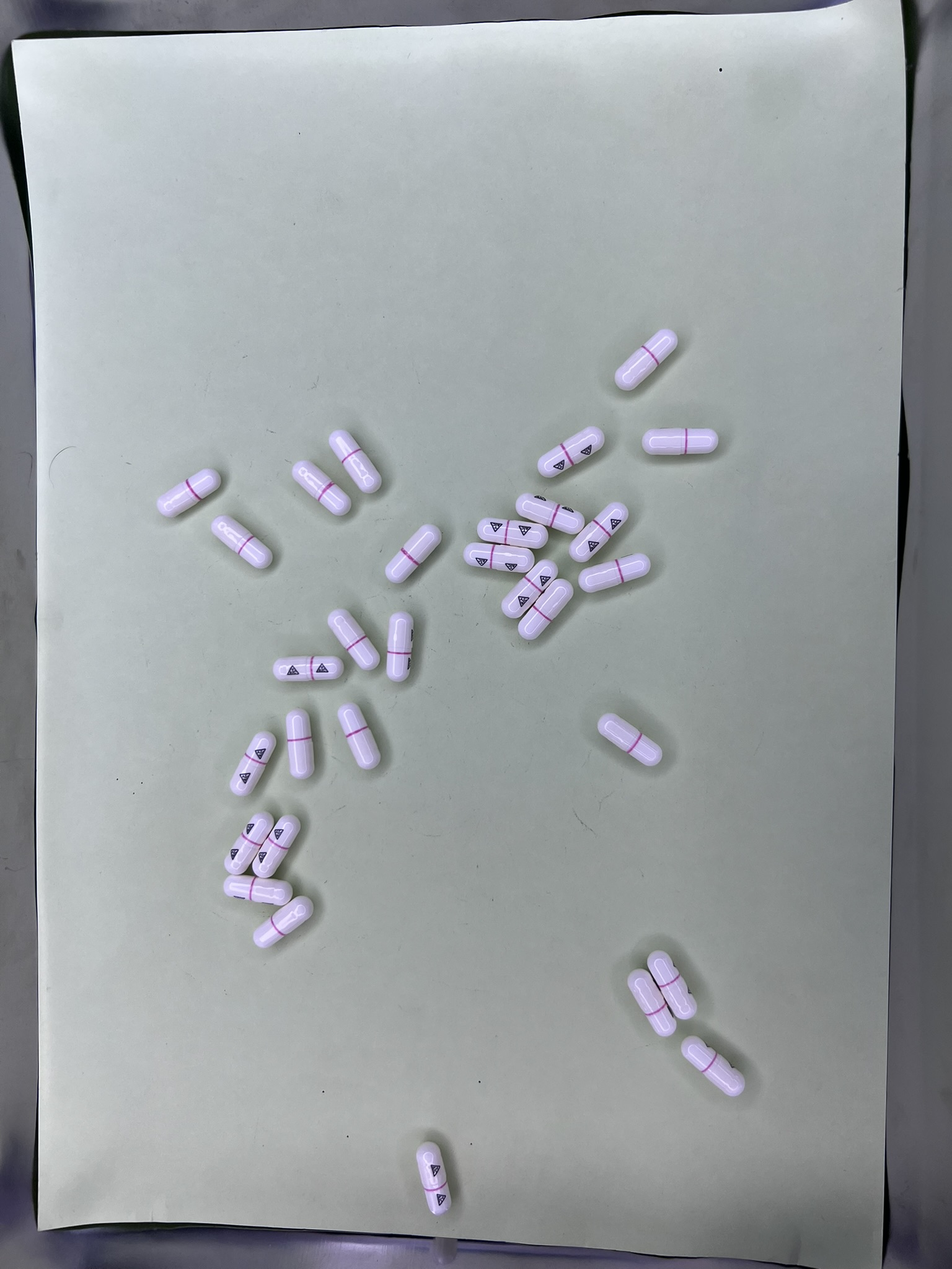Capsule: (614, 328, 679, 392), (682, 1035, 744, 1098), (516, 577, 576, 641), (568, 502, 630, 562), (327, 608, 381, 675), (600, 712, 664, 768), (328, 429, 382, 495), (501, 560, 560, 619), (210, 514, 271, 571), (647, 951, 696, 1021), (291, 460, 351, 517), (538, 426, 605, 477), (386, 523, 441, 584), (157, 467, 221, 518), (253, 895, 313, 949), (629, 969, 675, 1038), (252, 813, 300, 879), (231, 729, 277, 795), (336, 704, 380, 772), (514, 493, 585, 535), (225, 813, 273, 875), (577, 554, 649, 594), (461, 540, 537, 574), (416, 1141, 450, 1216), (475, 518, 548, 551), (224, 874, 292, 907), (642, 427, 717, 456), (285, 710, 316, 779), (272, 655, 344, 683), (386, 613, 414, 682)
